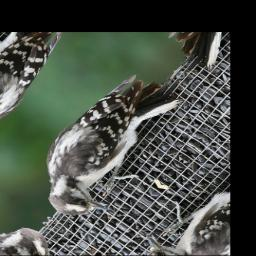Woodpecker: (15, 56, 204, 234)
